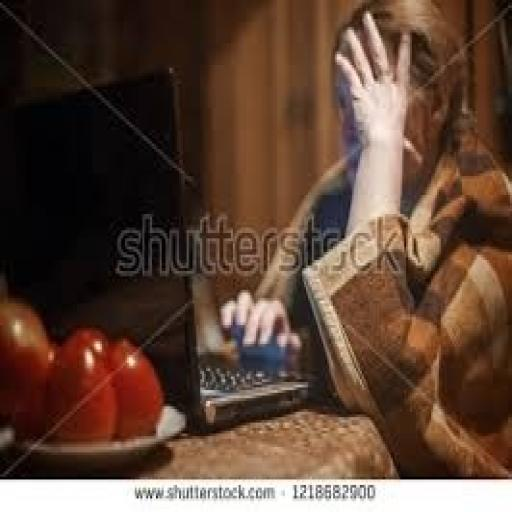using_laptop: (0, 57, 393, 512)
